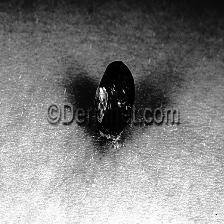Benign Marking or Mole: (96, 61, 135, 141)
